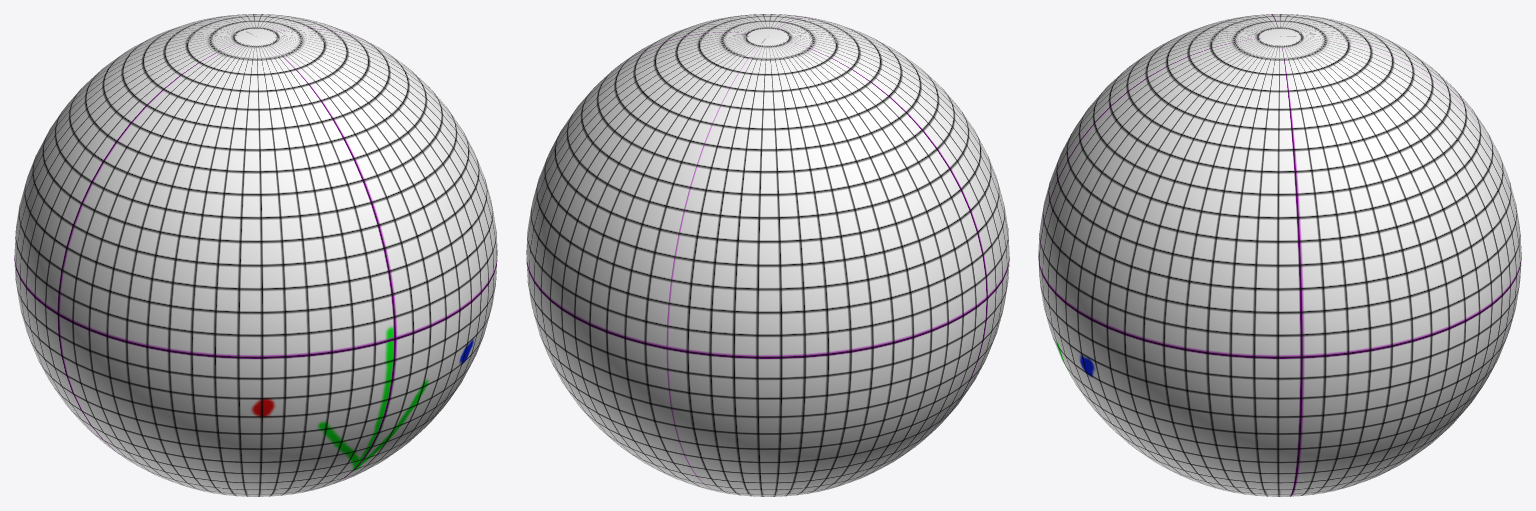
The model's file is SphereFix.fbx.
3 renders of one model, left to right at view 1: azimuth 30°, elevation 25°; view 2: azimuth 150°, elevation 25°; view 3: azimuth 270°, elevation 25°, orthographic.
Parts seen in each view (by area): view 1: SphereMap; view 2: SphereMap; view 3: SphereMap.
Part boxes in pixels (bbox=[...]): SphereMap: bbox=[14, 14, 497, 496]; SphereMap: bbox=[526, 14, 1009, 496]; SphereMap: bbox=[1038, 14, 1521, 496].
Bounding box in the file's own units: 200 × 200 × 200.
